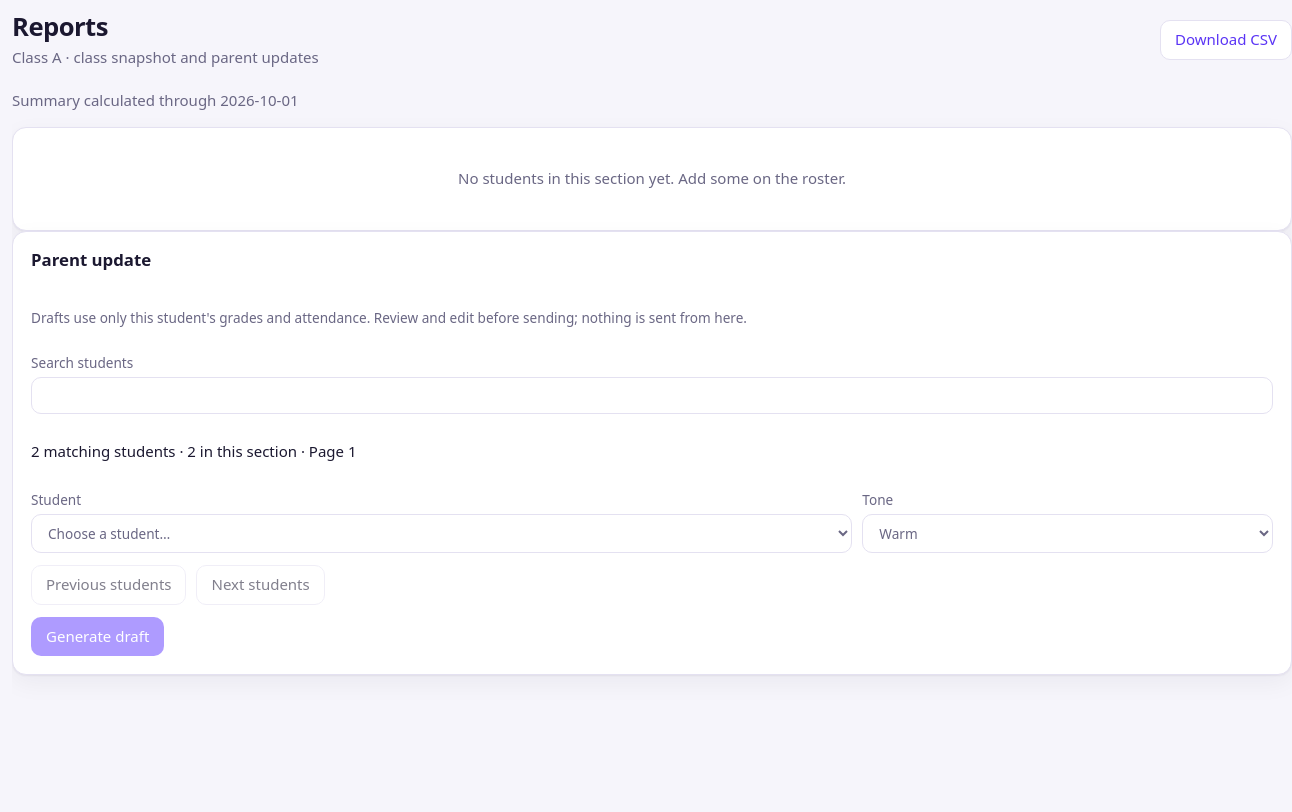
Test: operations request races › discards a completed parent draft after the selected student changes
Select "Ada" in the dropdown labelled "Student" at (442, 533), box [31,514,852,553]
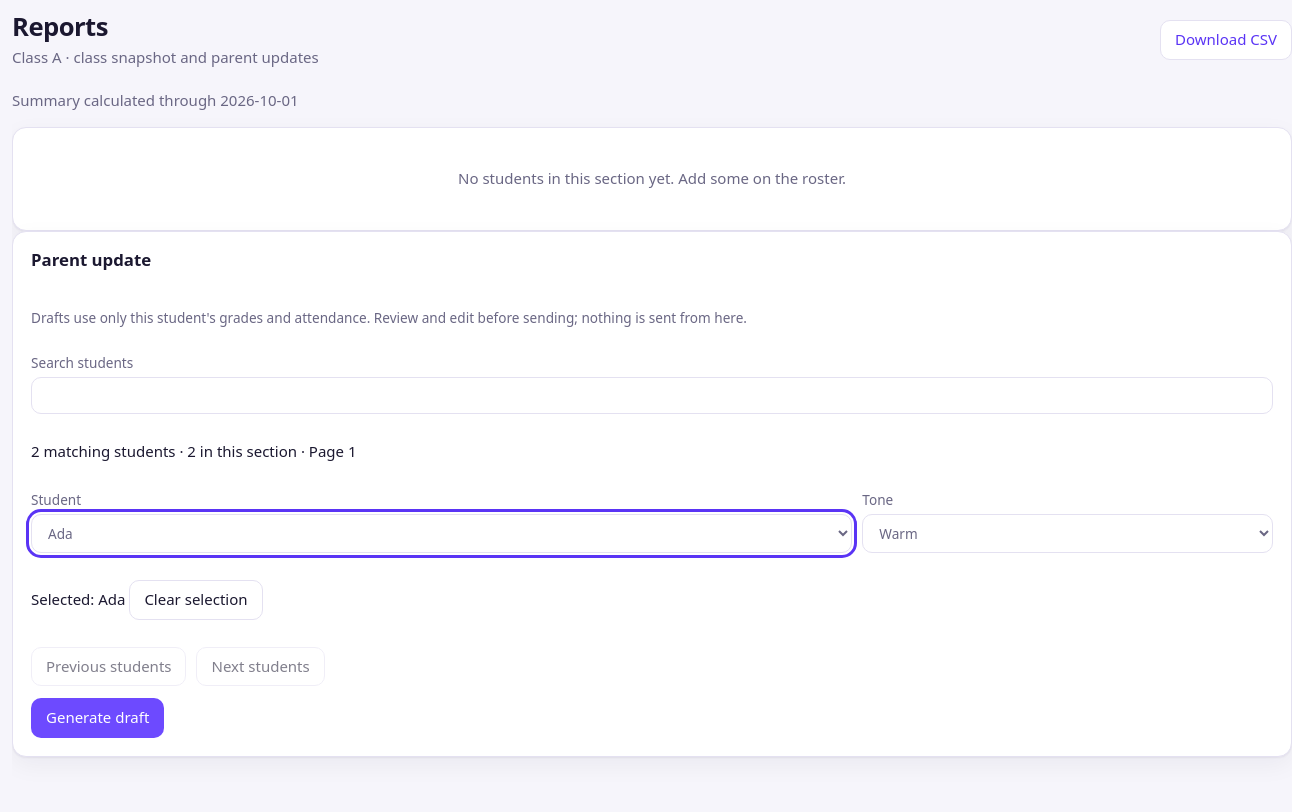
Click the button "Generate draft" at (98, 718), box [31,698,164,738]
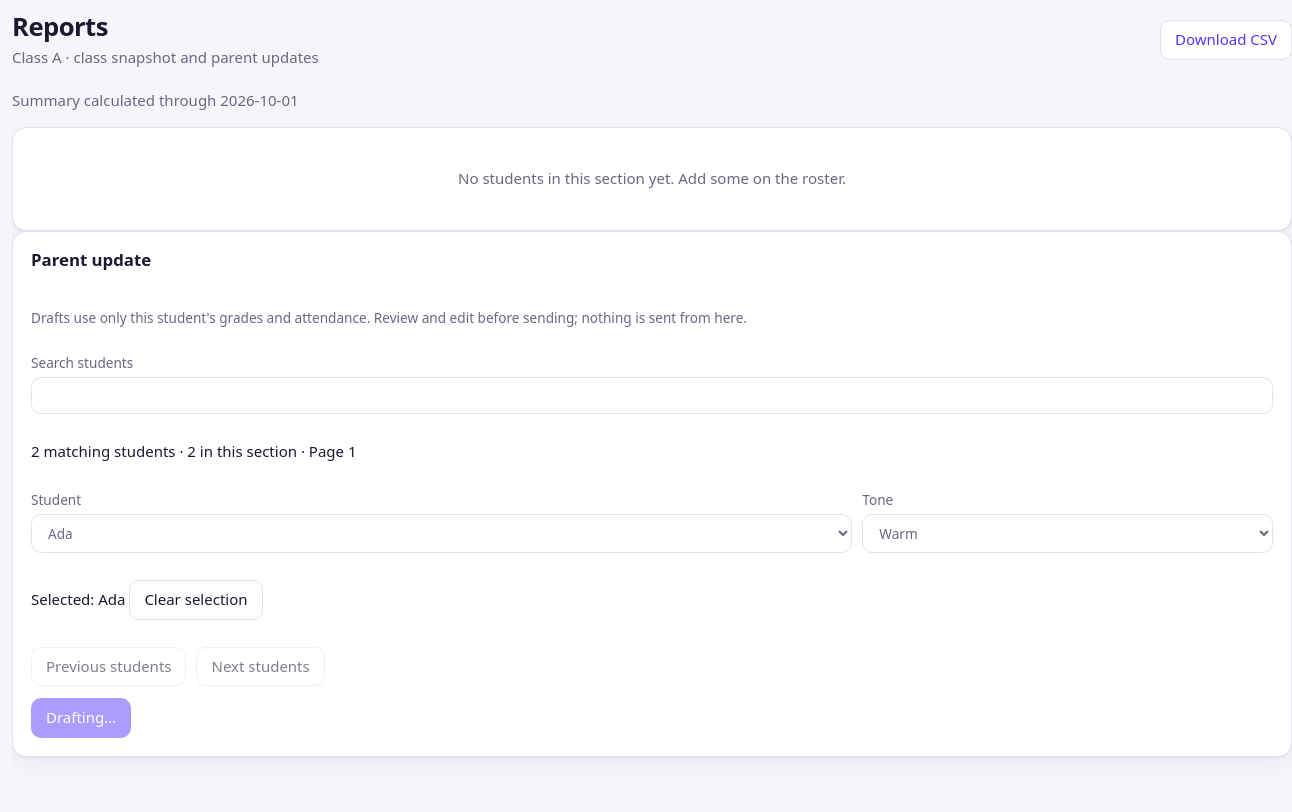
Select "Bob" in the dropdown labelled "Student" at (442, 533), box [31,514,852,553]
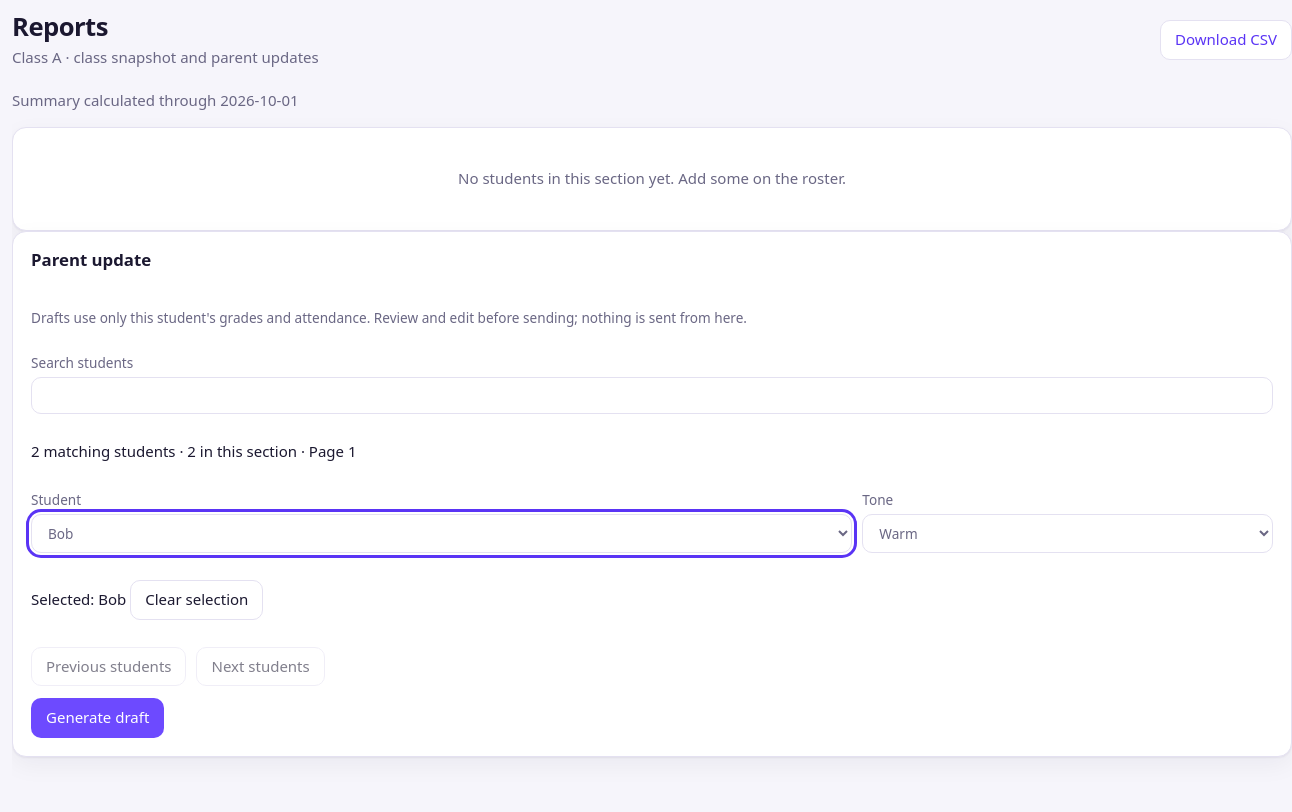
Now the button "Generate draft" is enabled, box [31,698,164,738]
